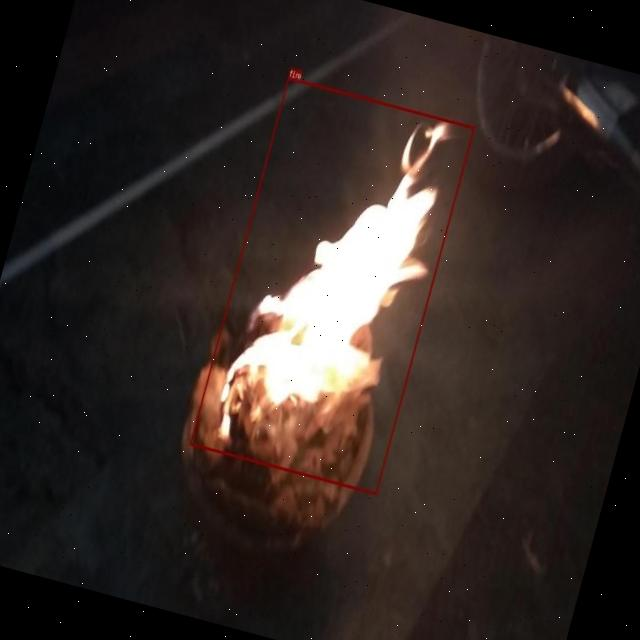fire: (188, 76, 474, 494)
